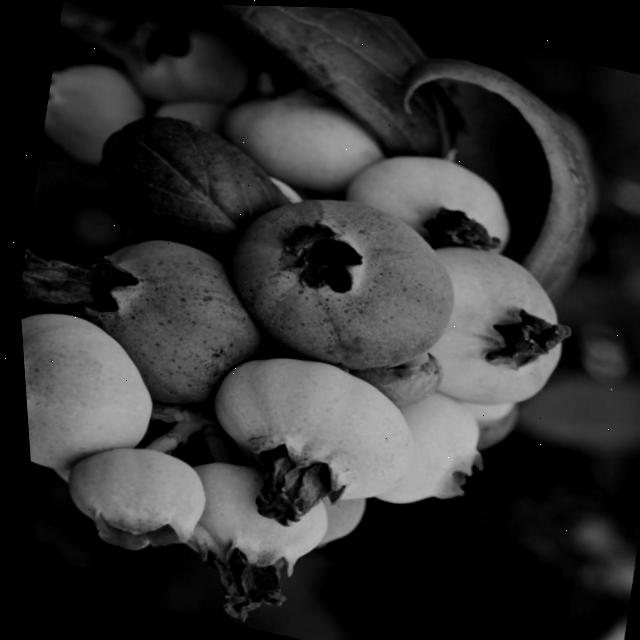RipeBlueBerry: (201, 170, 474, 390), (50, 219, 274, 421)
Semi-RipeBlueBerry: (389, 234, 585, 423)
UnripeBlueBerry: (182, 336, 430, 524), (16, 299, 168, 488), (201, 67, 392, 204), (156, 449, 333, 593), (333, 135, 524, 257), (45, 431, 210, 567), (109, 2, 259, 122), (32, 50, 162, 174)
